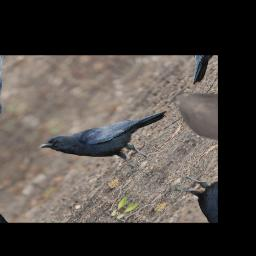Crow: (37, 81, 187, 190)
